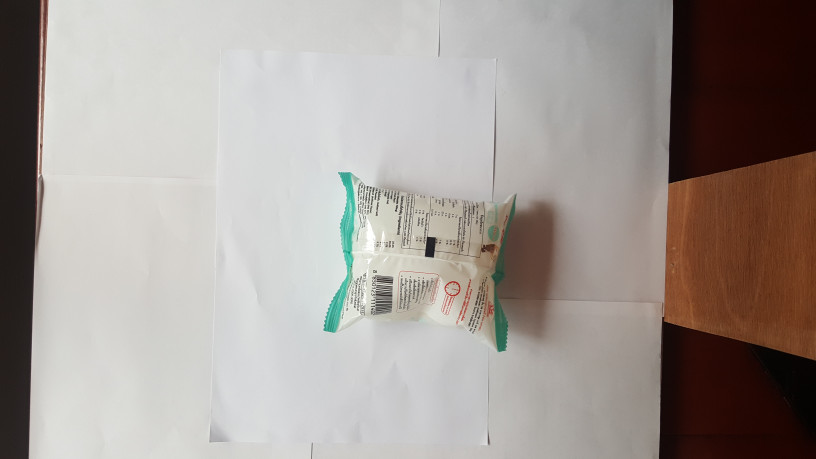farmhouse-sweetsandwich-chocolate: (322, 167, 517, 357)
